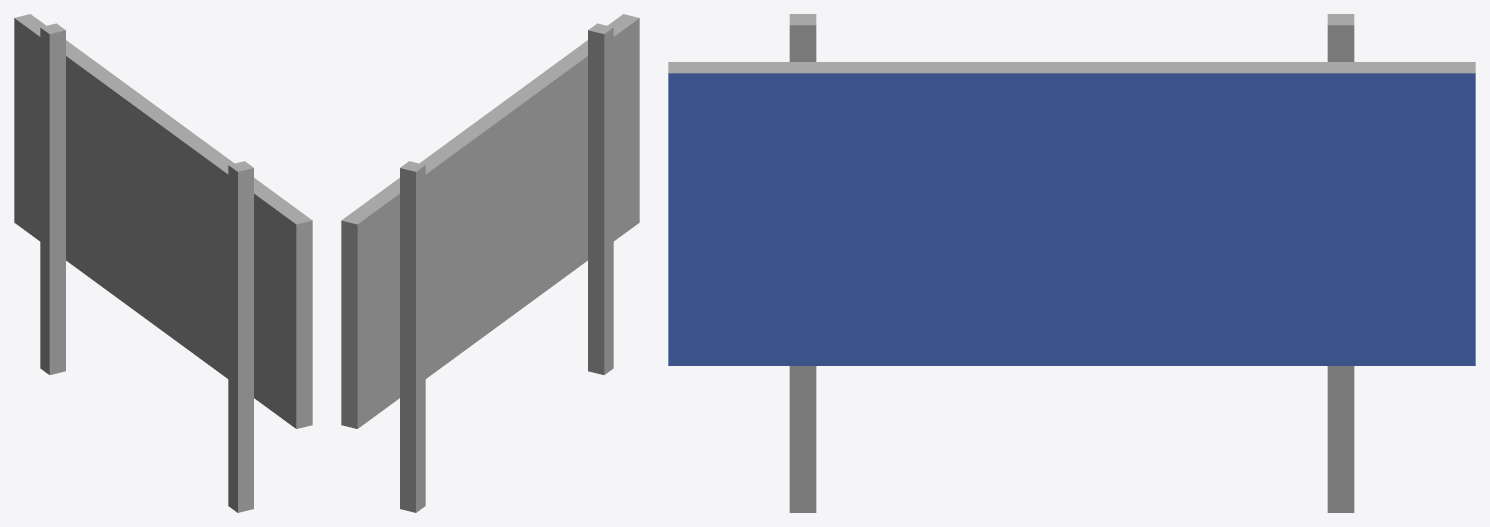
File: Sign.fbx
3 views of the same model, side by side, from view 1: azimuth 30°, elevation 25°; view 2: azimuth 150°, elevation 25°; view 3: azimuth 270°, elevation 25° (orthographic). The views are drawn at different scales.
Parts seen in each view (by area): view 1: Board, Leg2, Leg1; view 2: Board, Leg1, Leg2; view 3: Board, Leg2, Leg1.
Part boxes in pixels (x1=…): Board: x1=14, y1=14, x2=312, y2=428; Leg2: x1=228, y1=161, x2=253, y2=512; Leg1: x1=40, y1=23, x2=65, y2=374; Board: x1=341, y1=14, x2=639, y2=428; Leg1: x1=400, y1=161, x2=425, y2=512; Leg2: x1=588, y1=23, x2=613, y2=374; Board: x1=668, y1=62, x2=1475, y2=365; Leg2: x1=789, y1=14, x2=816, y2=512; Leg1: x1=1327, y1=14, x2=1354, y2=512.
Bounding box in the file's own units: 40 × 400 × 600.
